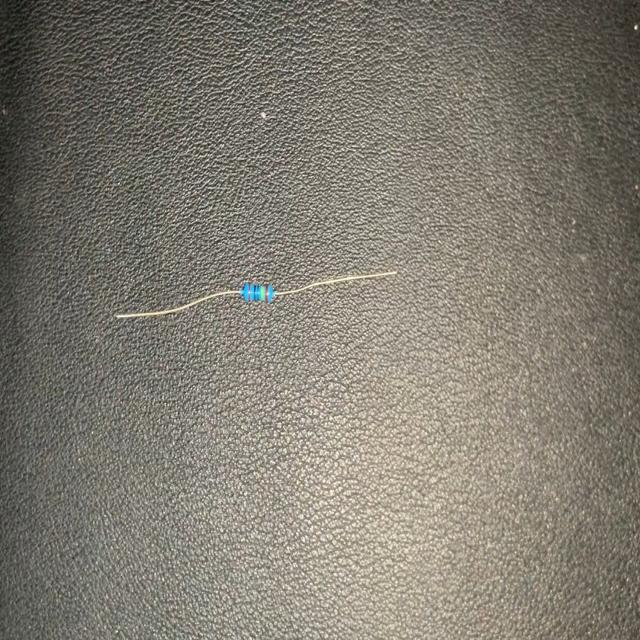resistor: (116, 268, 397, 320)
